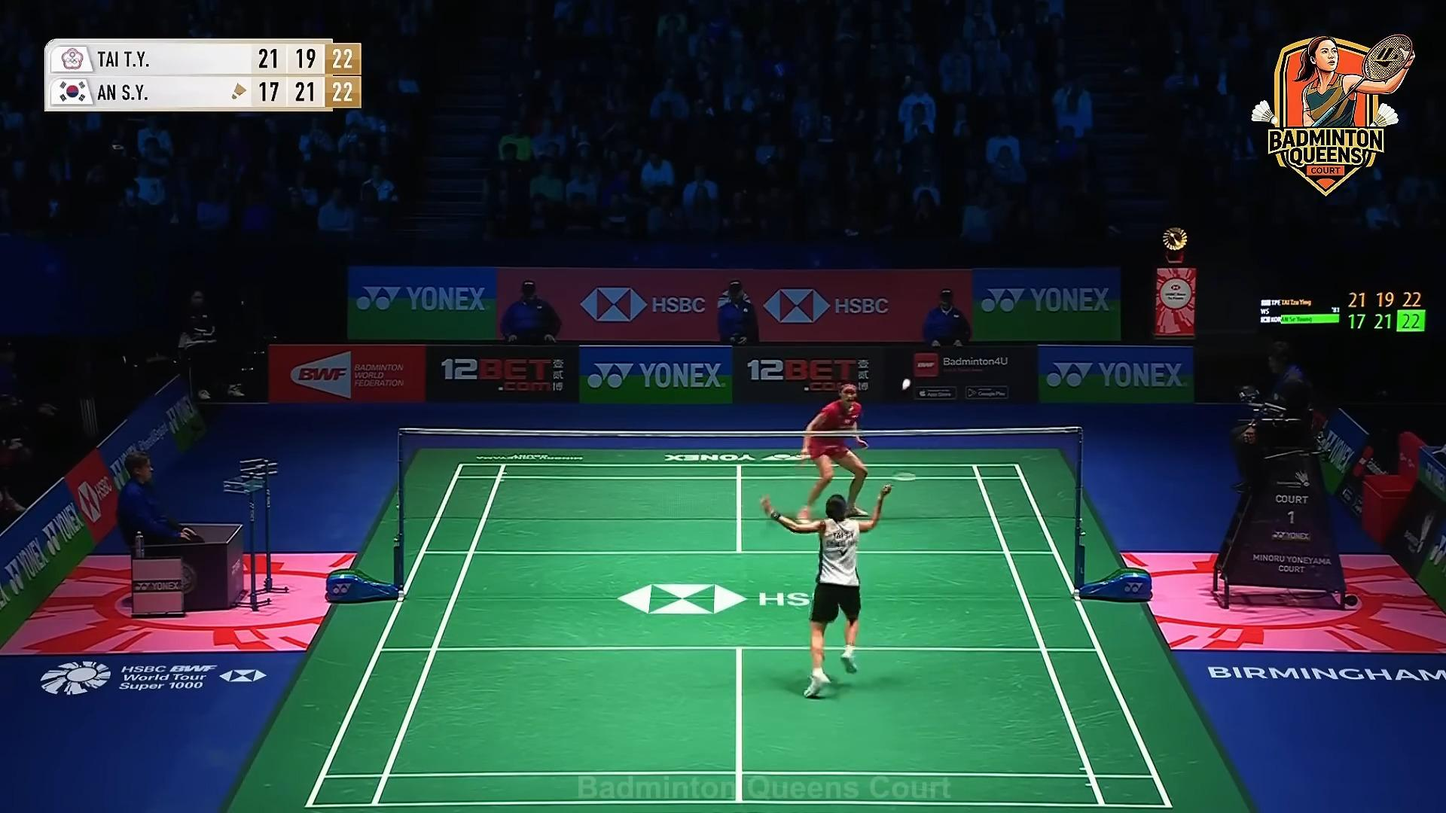player: (761, 483, 895, 699), (798, 379, 873, 525)
shuttlecock: (901, 378, 911, 390)
